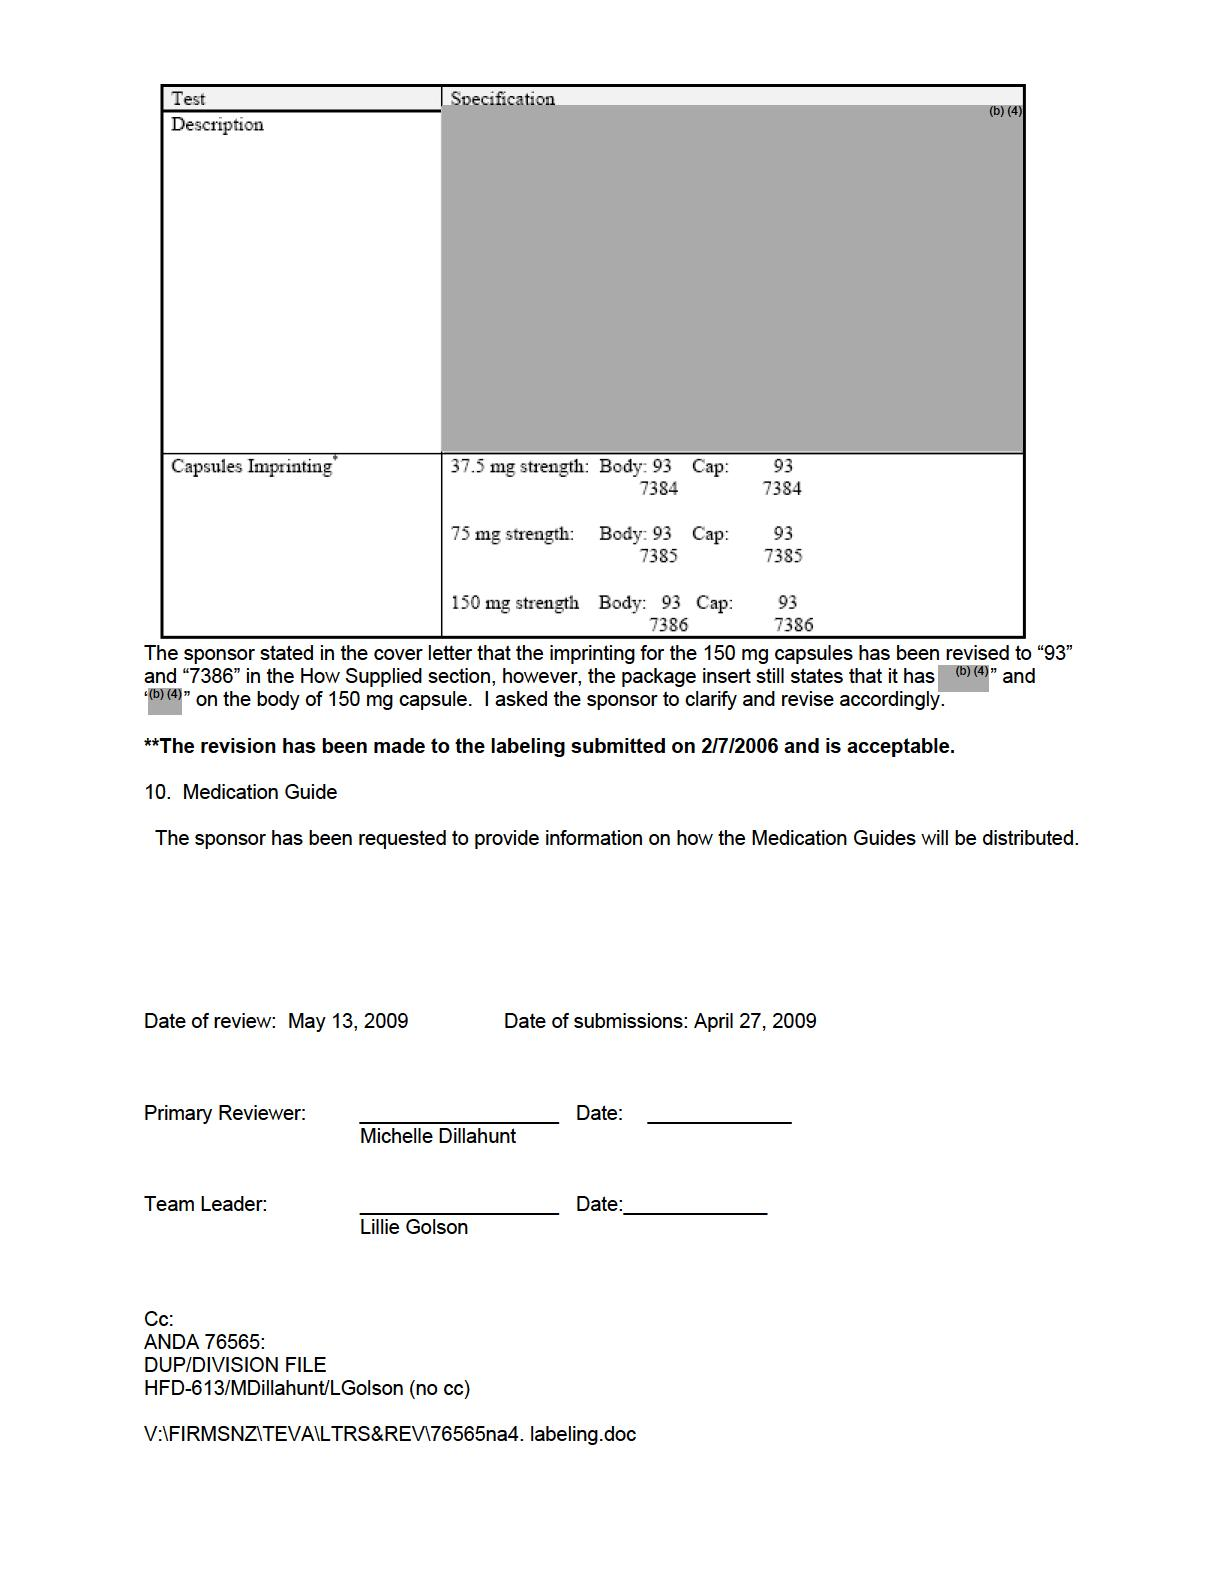full_lined: (159, 84, 1026, 640)
nolines: (139, 1104, 797, 1245)
